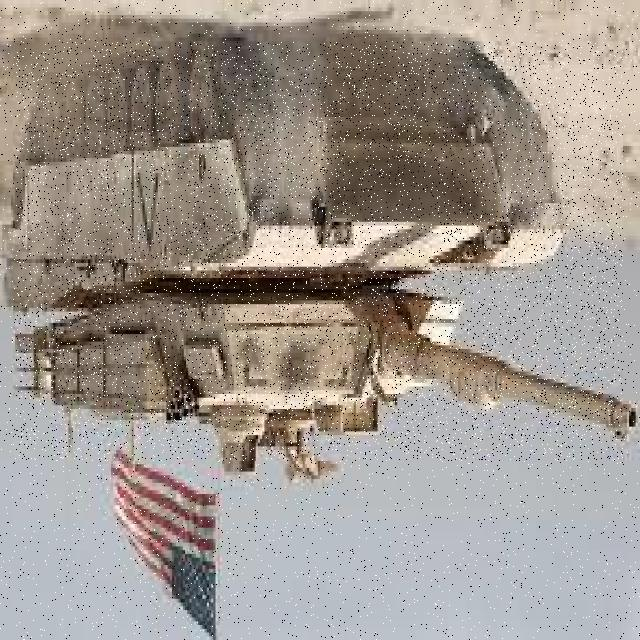MIL_MBT: (16, 42, 623, 460)
